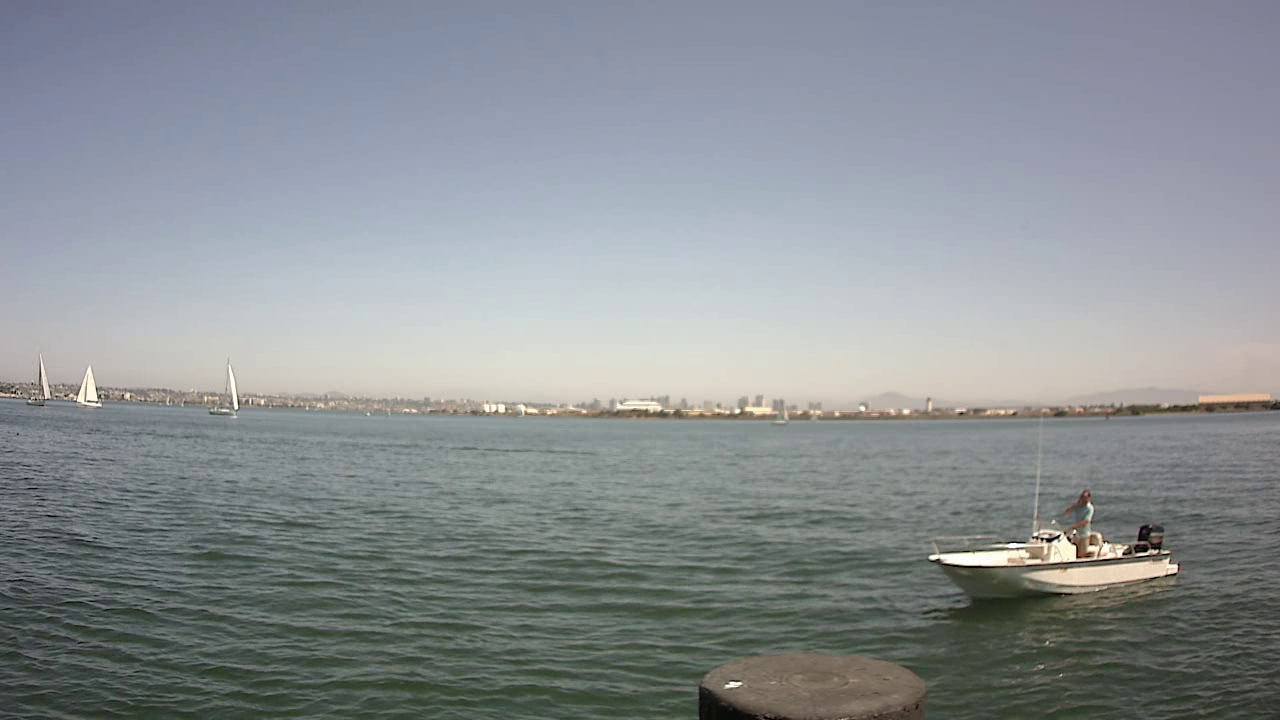target: (924, 484, 1186, 599)
